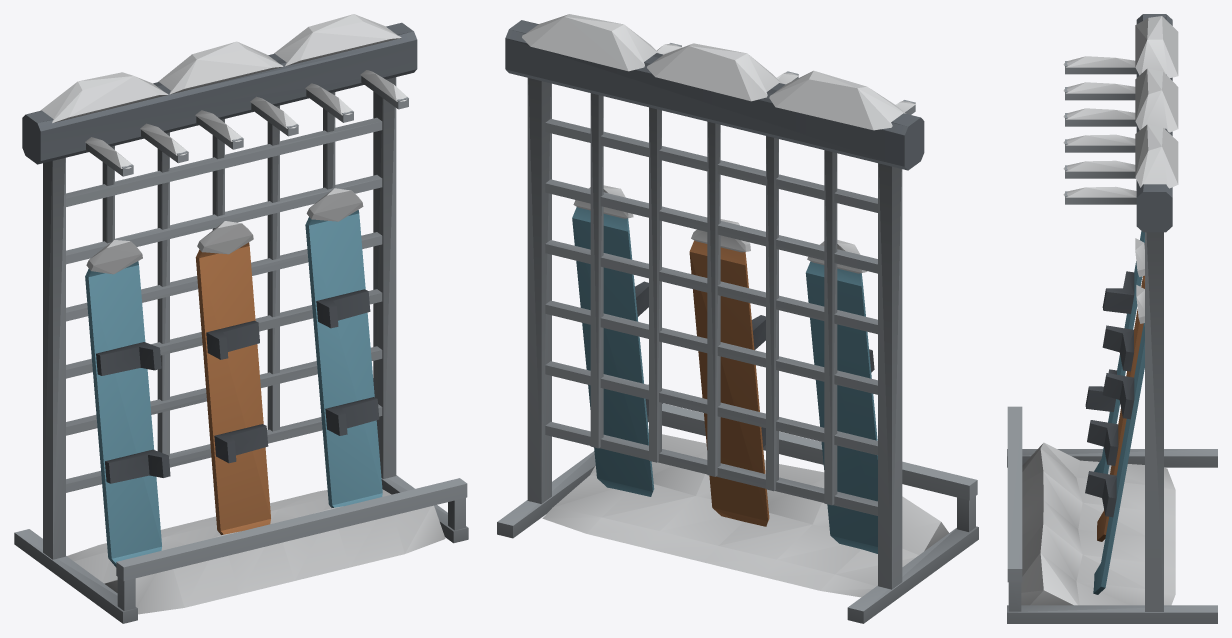
File: boards.glb
The picture shows the model from 3 angles, left to right: view 1: azimuth 30°, elevation 25°; view 2: azimuth 150°, elevation 25°; view 3: azimuth 270°, elevation 25°; orthographic projection. The views are drawn at different scales.
Parts seen in each view (by area): view 1: boards; view 2: boards; view 3: boards.
Part boxes in pixels (bbox=[...]): boards: bbox=[14, 14, 468, 623]; boards: bbox=[497, 14, 978, 623]; boards: bbox=[1007, 14, 1217, 623].
Bounding box in the file's own units: 2 × 2.42 × 1.
